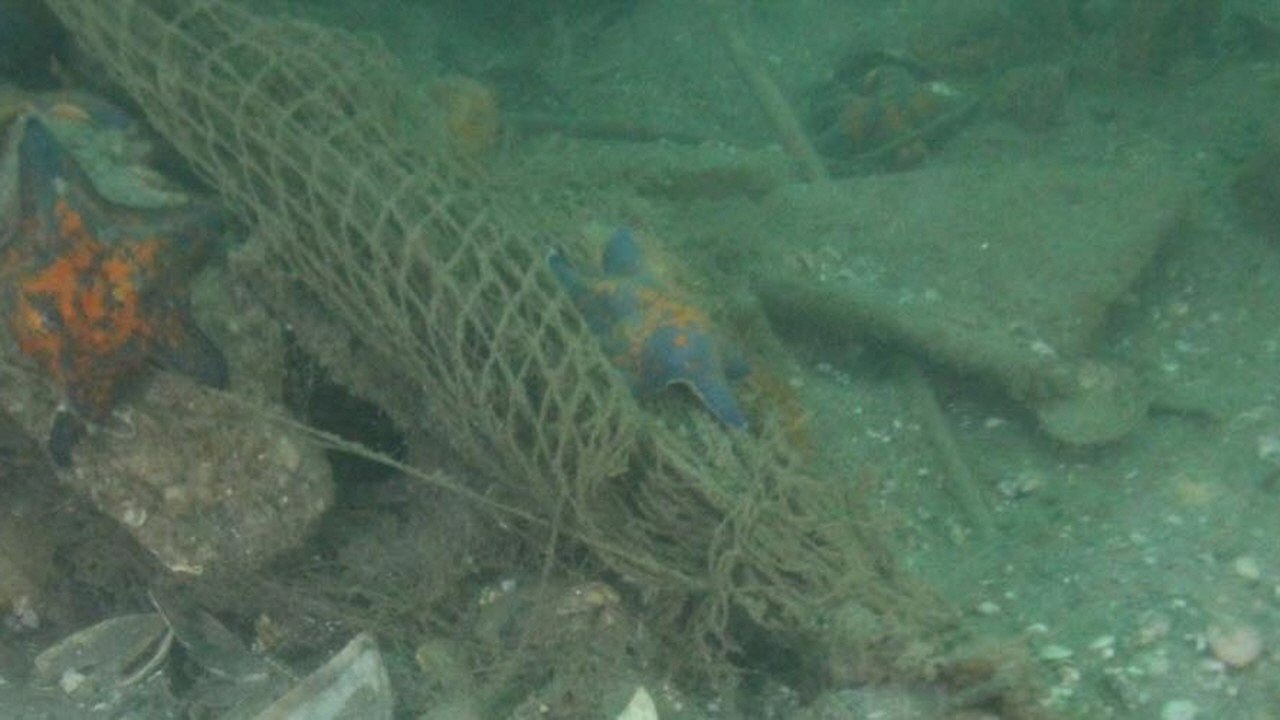fish net: (40, 0, 637, 496)
